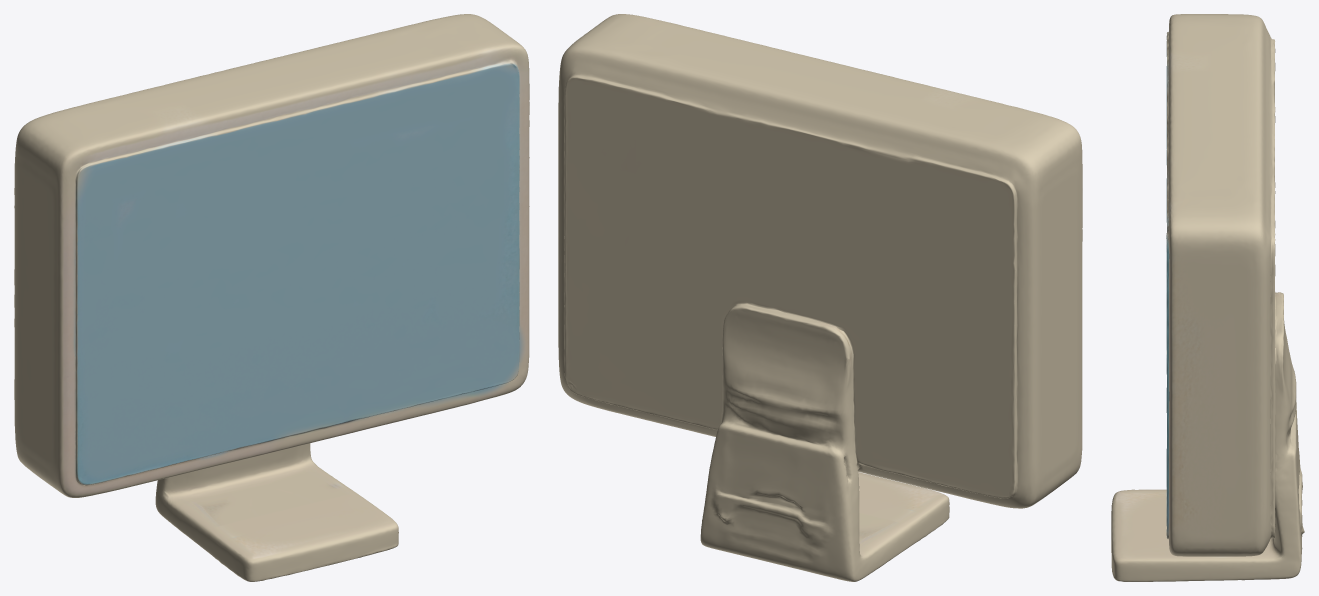
The model's file is Online_Monitor.fbx.
The picture shows the model from 3 angles, left to right: view 1: azimuth 30°, elevation 25°; view 2: azimuth 150°, elevation 25°; view 3: azimuth 270°, elevation 25°; orthographic projection. The views are drawn at different scales.
Visible parts, largest first — view 1: texture_mapping; view 2: texture_mapping; view 3: texture_mapping.
Boxes of the visible parts, left/top/right/bottom form: texture_mapping: left=14, top=14, right=529, bottom=581; texture_mapping: left=558, top=14, right=1082, bottom=581; texture_mapping: left=1111, top=14, right=1304, bottom=581.
Bounding box in the file's own units: 0.998 × 0.3692 × 0.9094.
1 material, 1 textured.
